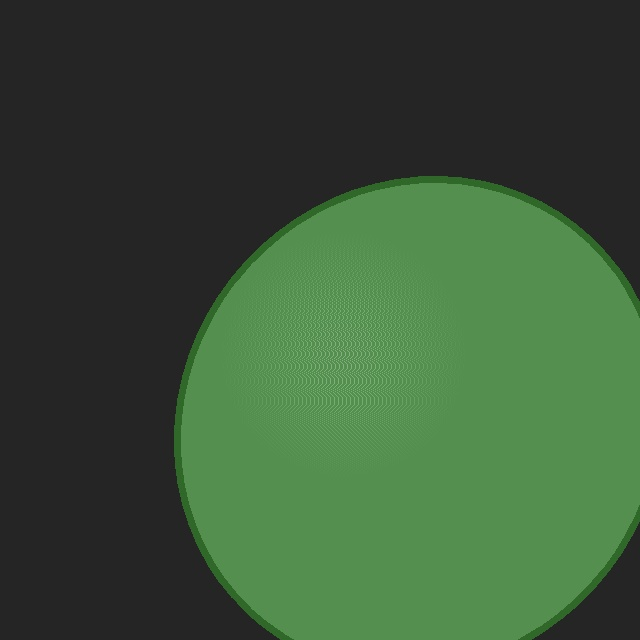lens: (178, 180, 640, 640)
